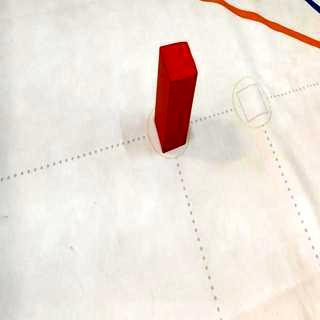redbox: (154, 39, 198, 154)
